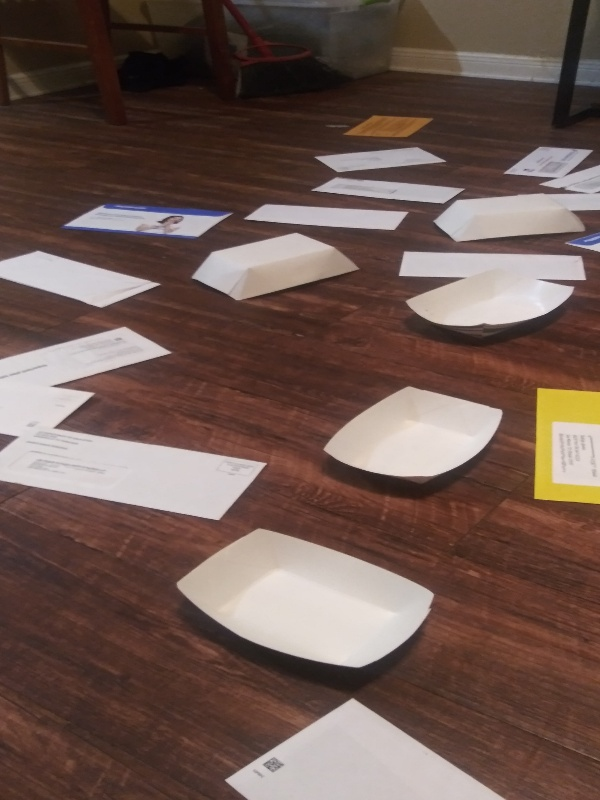plate: (173, 525, 438, 674), (320, 378, 508, 488), (402, 264, 580, 346), (187, 231, 363, 302), (432, 194, 590, 246)
